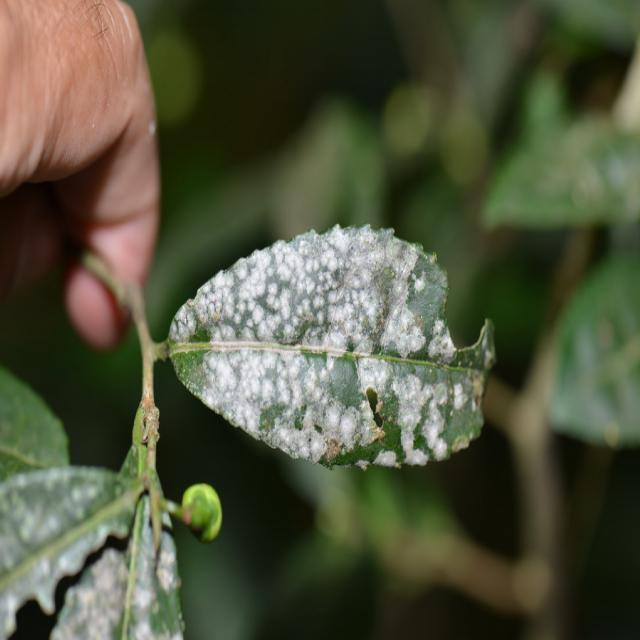Tea algae leaf spot: (182, 242, 482, 480)
